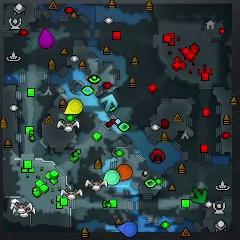p1: (118, 221, 138, 236)
p2: (103, 169, 121, 184)
p3: (39, 27, 54, 49)
p4: (64, 98, 84, 115)
p5: (116, 164, 134, 180)
x3: (100, 93, 117, 112)
x4: (191, 187, 207, 203)
